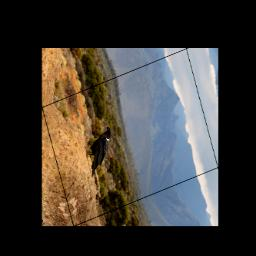Crow: (79, 123, 122, 179)
